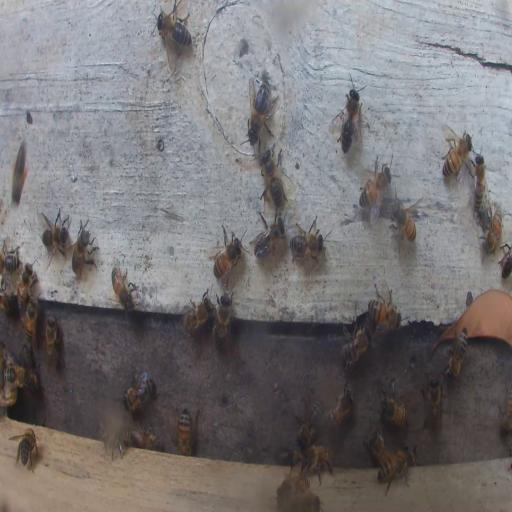nonpollenbee: (332, 81, 365, 151), (358, 156, 390, 223), (246, 78, 278, 138), (210, 224, 243, 282), (157, 4, 193, 52), (260, 149, 287, 212), (40, 208, 72, 260), (288, 217, 324, 262), (376, 449, 411, 495), (70, 214, 94, 280), (252, 212, 286, 257), (389, 195, 419, 246), (122, 369, 156, 411), (442, 129, 470, 179), (325, 385, 354, 430), (340, 325, 370, 368), (422, 375, 444, 432), (296, 403, 322, 450), (9, 428, 38, 470), (302, 446, 334, 484), (43, 316, 65, 370), (111, 264, 135, 312), (444, 327, 467, 377), (180, 296, 210, 334), (379, 392, 407, 427), (215, 291, 233, 344), (484, 207, 503, 255), (368, 299, 399, 328), (366, 429, 388, 467), (498, 382, 512, 440), (473, 154, 486, 216), (16, 264, 34, 306), (276, 474, 310, 496), (130, 425, 161, 449), (1, 364, 34, 386), (103, 428, 127, 458), (24, 294, 37, 344), (177, 410, 191, 456), (276, 449, 304, 469), (498, 242, 512, 278), (2, 250, 21, 274), (0, 278, 13, 310), (20, 347, 35, 372), (4, 384, 16, 410)
pollenbee: (10, 142, 30, 207)
